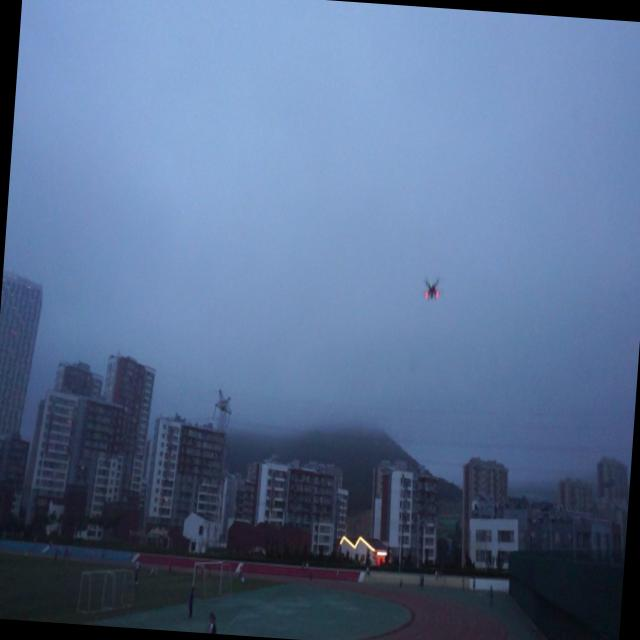drone: (421, 272, 442, 304)
